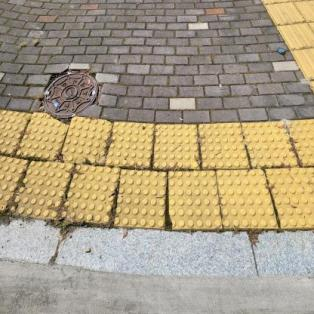Podoctatil: (0, 102, 313, 236), (258, 0, 314, 98)
